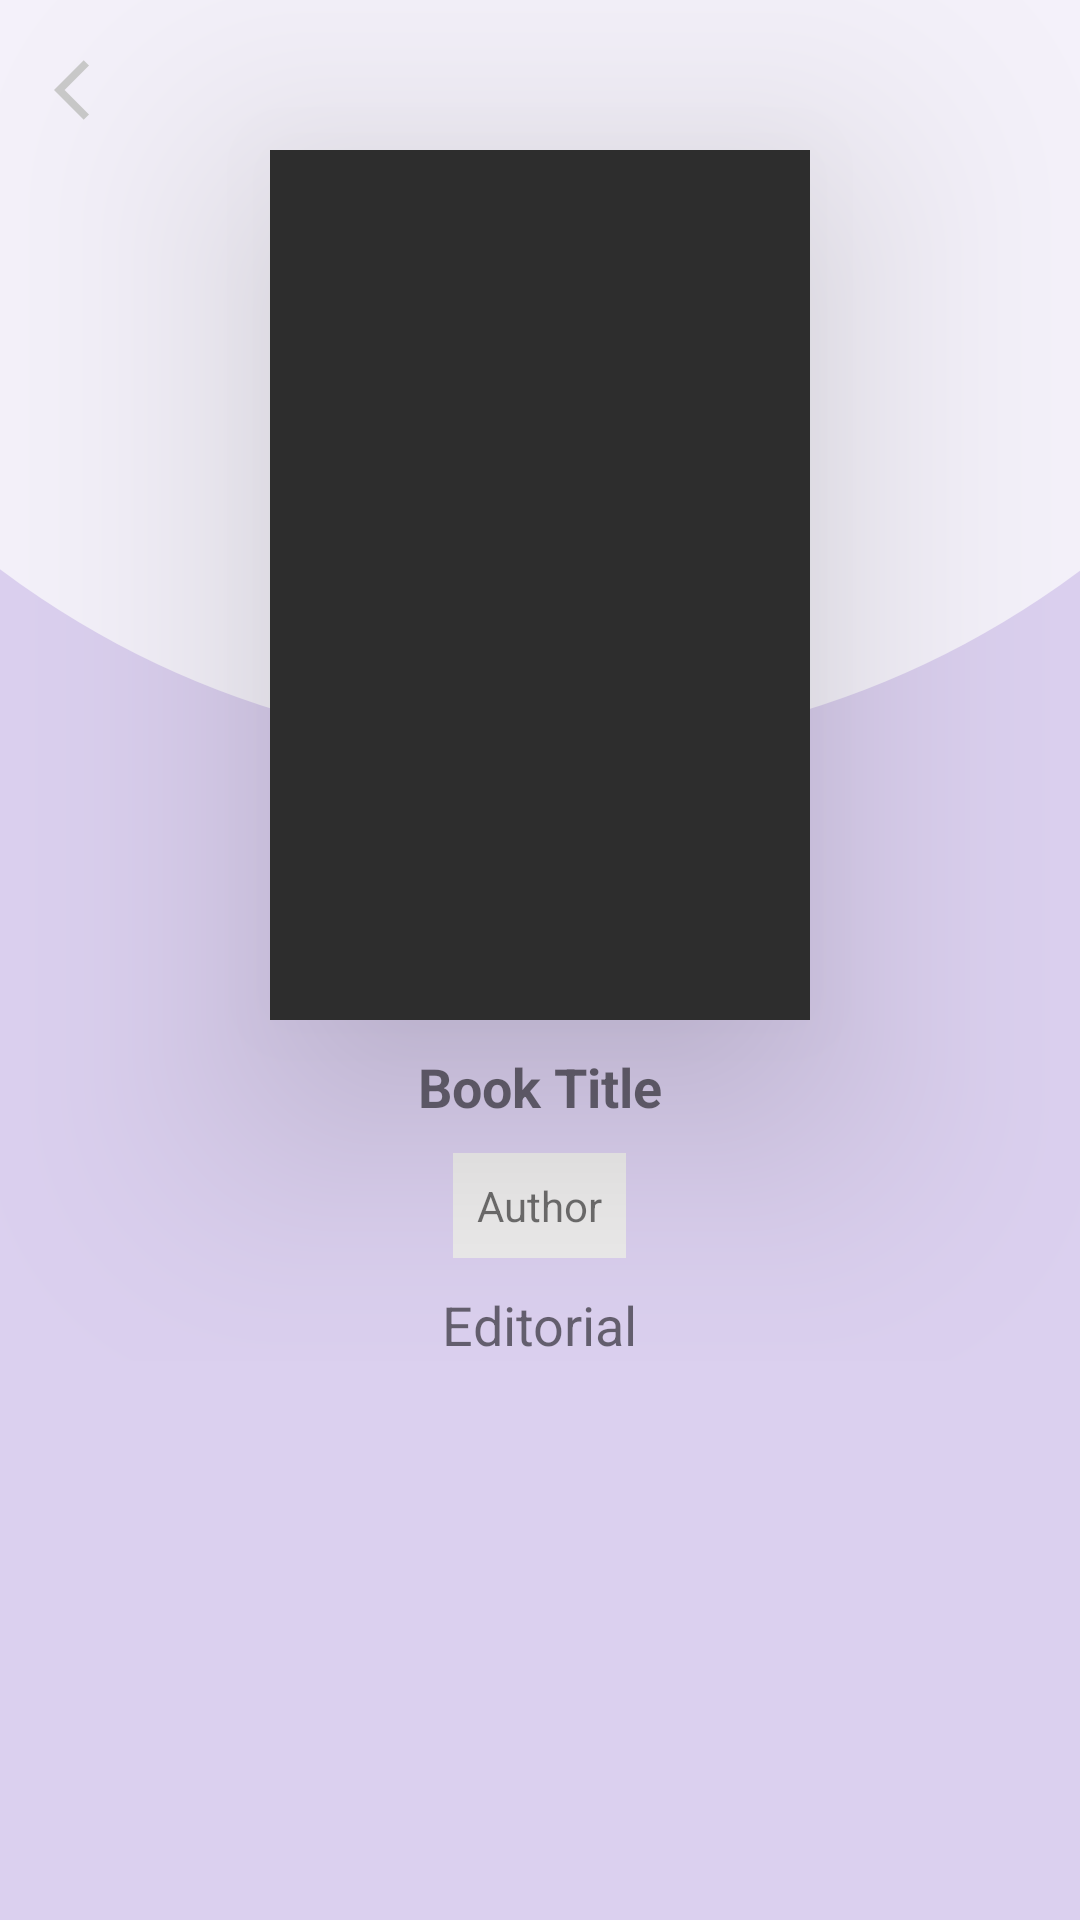

Screen size 1080px x 1920px. Icon name, then its center in pixels as point (x, y):
arrow: point (72, 90)
